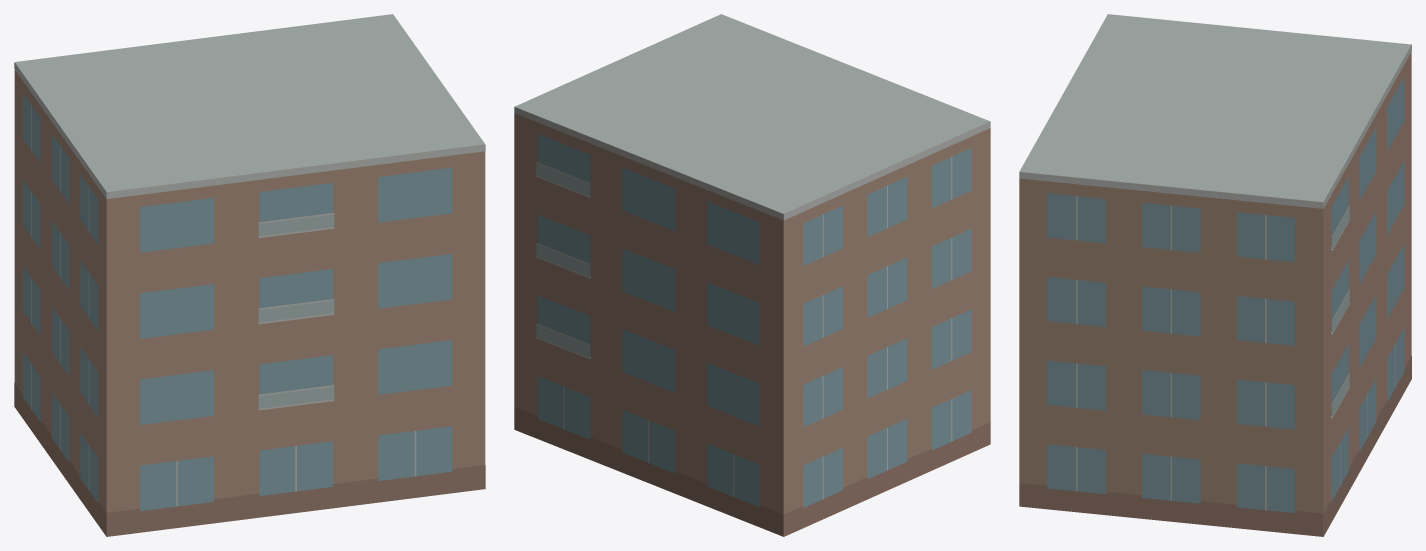
Rendered from residential-d6c5bc79-7f01-421c-be16-ca7edeaba642.glb.
3 renders of one model, left to right at view 1: azimuth 30°, elevation 25°; view 2: azimuth 150°, elevation 25°; view 3: azimuth 270°, elevation 25°, orthographic. The views are drawn at different scales.
Parts seen in each view (by area): view 1: residential-d6c5bc79-7f01-421c-be16-ca7edeaba642.tmp; view 2: residential-d6c5bc79-7f01-421c-be16-ca7edeaba642.tmp; view 3: residential-d6c5bc79-7f01-421c-be16-ca7edeaba642.tmp.
Part boxes in pixels (box(x1,y1,x2,y2)): residential-d6c5bc79-7f01-421c-be16-ca7edeaba642.tmp: box(14, 14, 485, 536); residential-d6c5bc79-7f01-421c-be16-ca7edeaba642.tmp: box(514, 14, 990, 536); residential-d6c5bc79-7f01-421c-be16-ca7edeaba642.tmp: box(1019, 14, 1411, 536).
Bounding box in the file's own units: 14.73 × 12.2 × 12.98.
